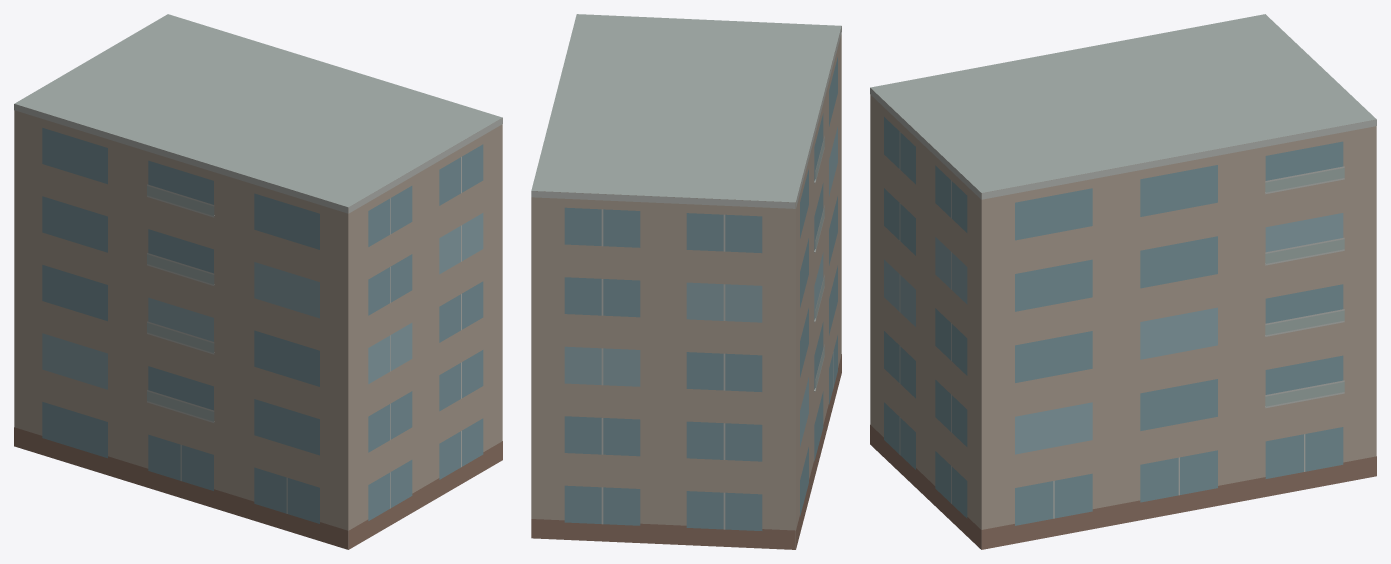
Rendered from survey-upis-32994625.glb.
3 views of the same model, side by side, from view 1: azimuth 30°, elevation 25°; view 2: azimuth 150°, elevation 25°; view 3: azimuth 270°, elevation 25° (orthographic). The views are drawn at different scales.
Visible parts, largest first — view 1: survey-upis-32994625.tmp; view 2: survey-upis-32994625.tmp; view 3: survey-upis-32994625.tmp.
Part boxes in pixels (x1=…): survey-upis-32994625.tmp: x1=14, y1=14, x2=502, y2=549; survey-upis-32994625.tmp: x1=531, y1=14, x2=841, y2=549; survey-upis-32994625.tmp: x1=870, y1=14, x2=1376, y2=549.
Bounding box in the file's own units: 14 × 13 × 16.74.
